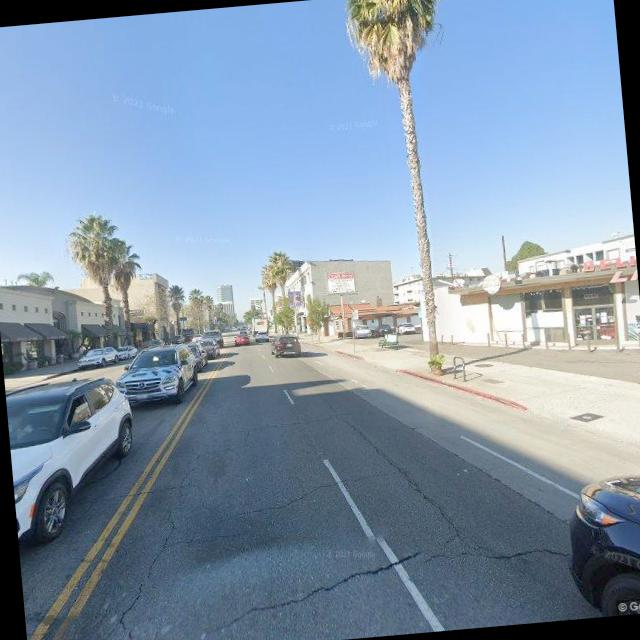crack: (88, 463, 200, 640), (195, 550, 422, 632), (346, 410, 458, 536), (227, 468, 393, 516), (417, 534, 571, 571), (79, 482, 190, 503)
